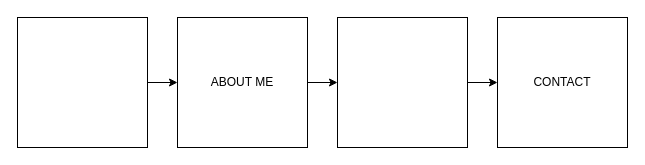
The diagram is 645 pixels wide and 165 high, and some of its shapes have lost their labels. Here are the shapes that lost their labels. From the top down, the centre of each, then its label:
the point at 82,82: HOME
the point at 402,82: PORTFOLIO
